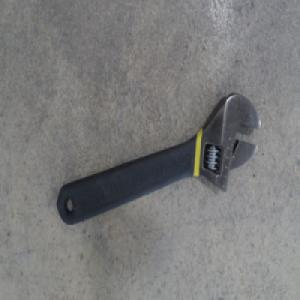AdjustableWrench: (55, 93, 259, 227)
